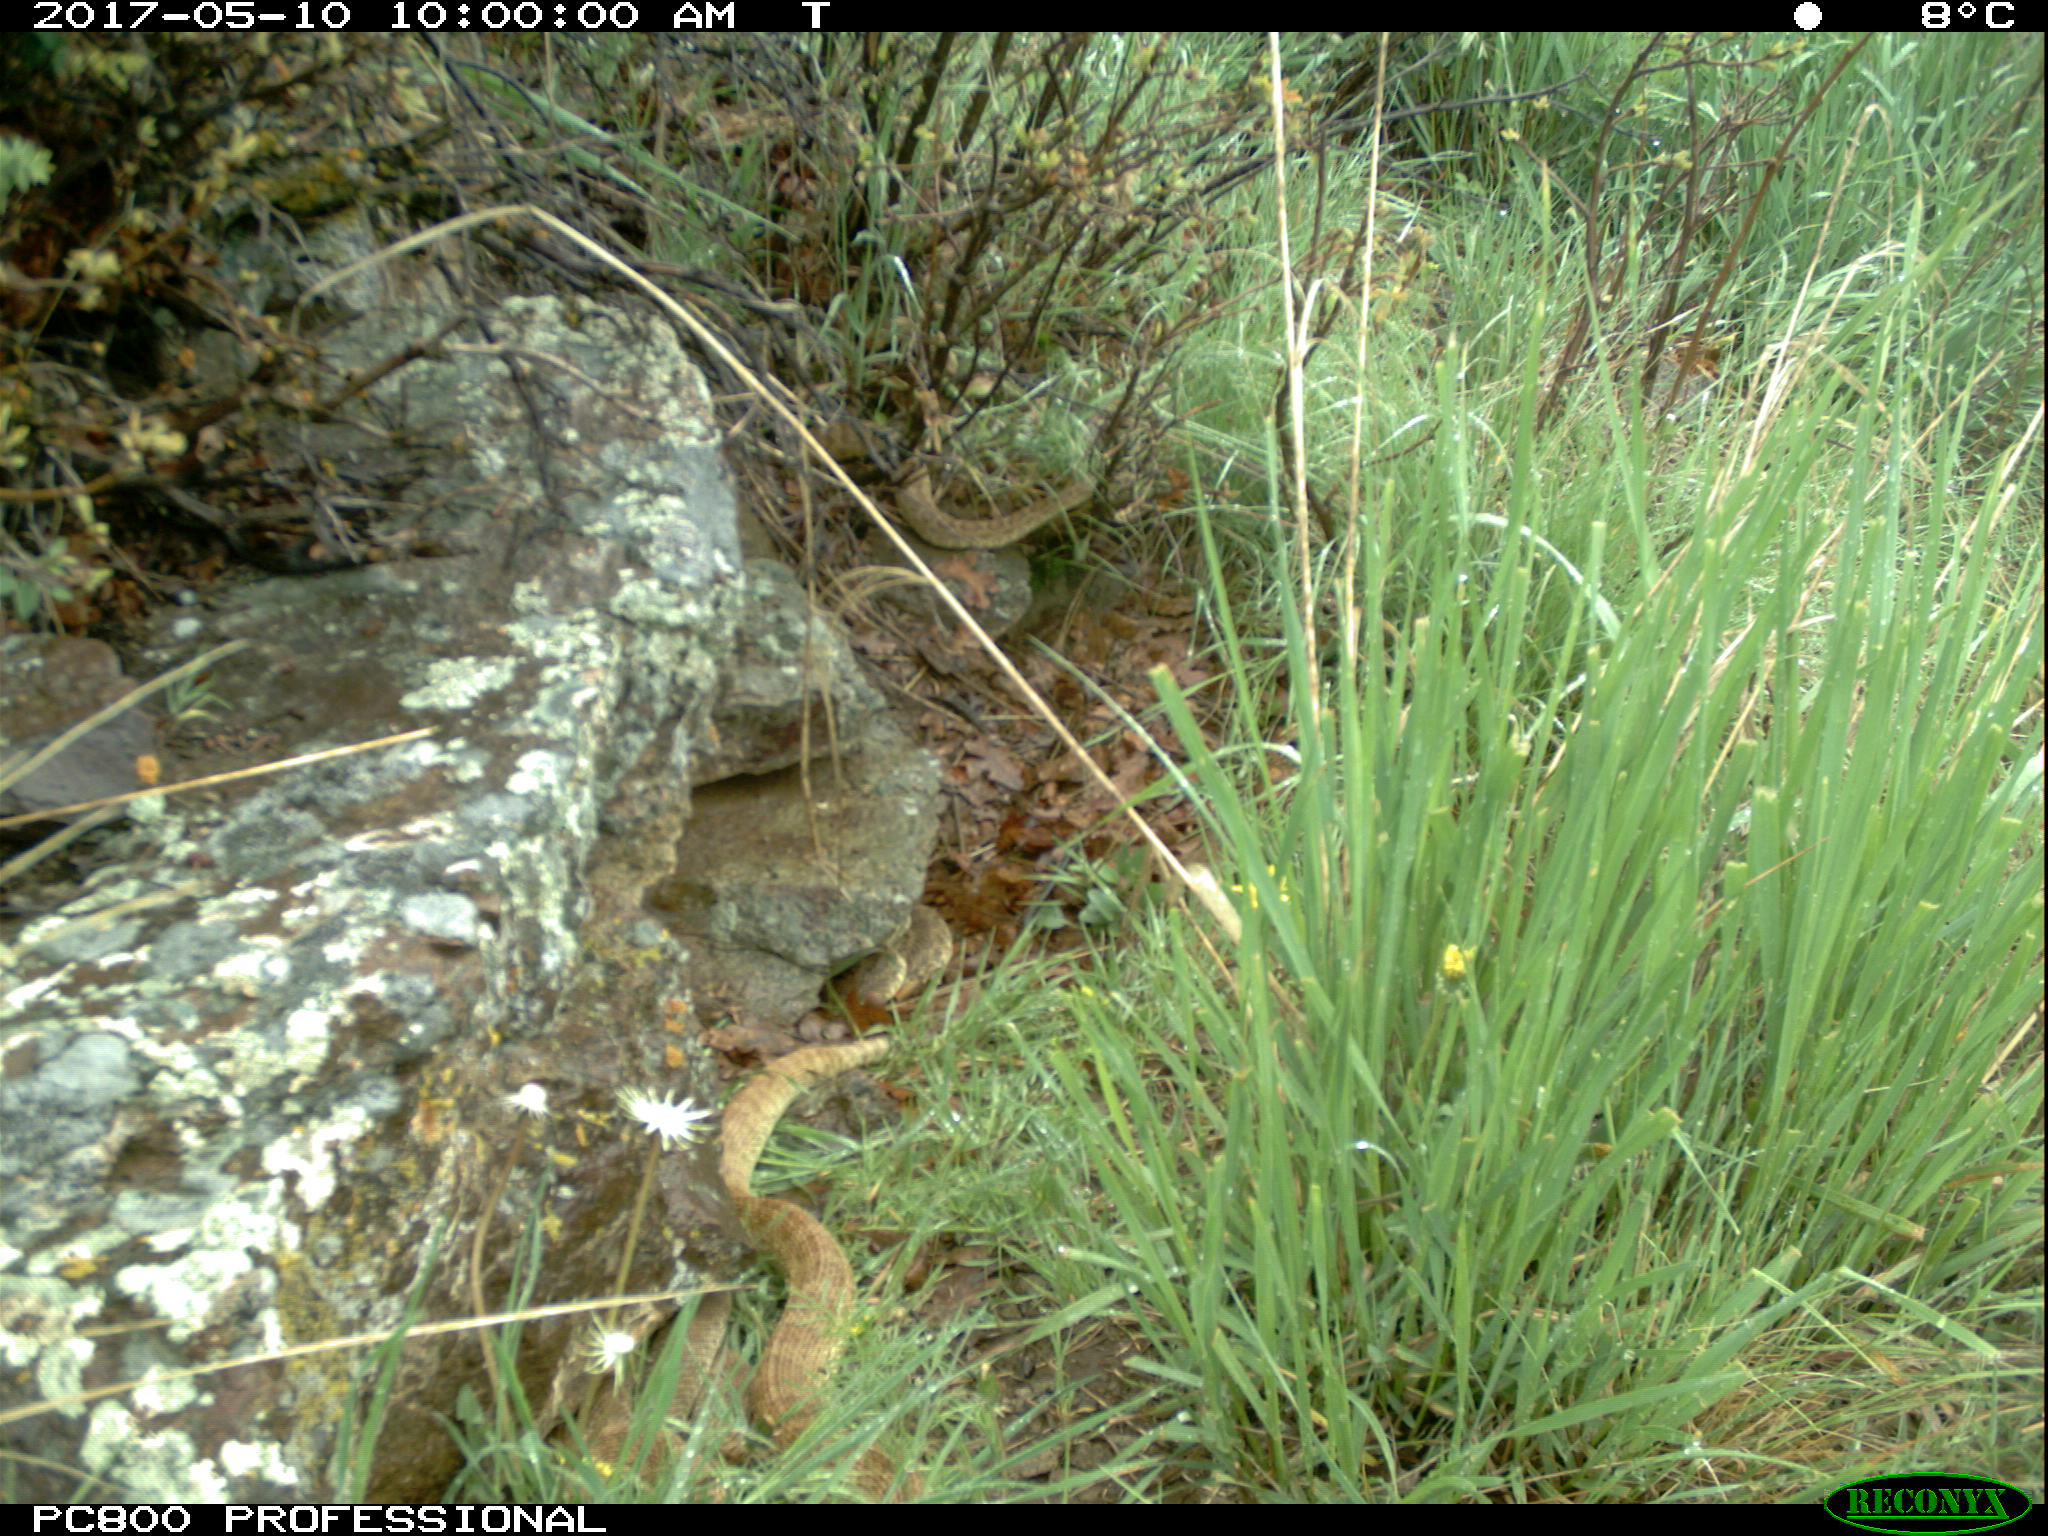snake: (705, 1028, 919, 1501), (577, 1347, 756, 1480), (887, 453, 1093, 550), (877, 913, 961, 1002), (682, 1296, 737, 1431)
